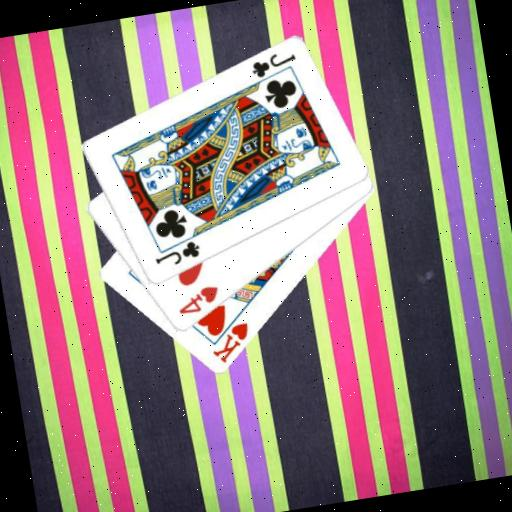4H: (171, 282, 222, 318)
JC: (149, 236, 203, 270), (245, 47, 299, 81)
KH: (204, 319, 254, 367)
